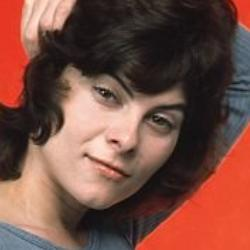face: (3, 3, 240, 220)
